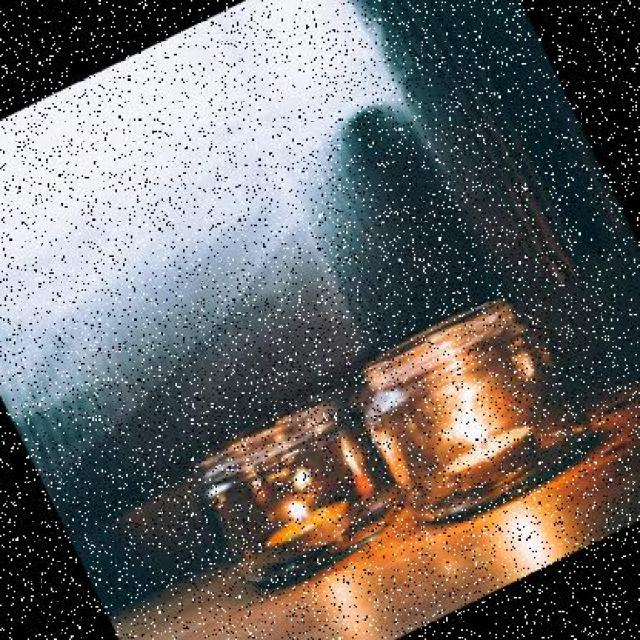fire: (448, 400, 494, 446), (271, 486, 315, 528)
